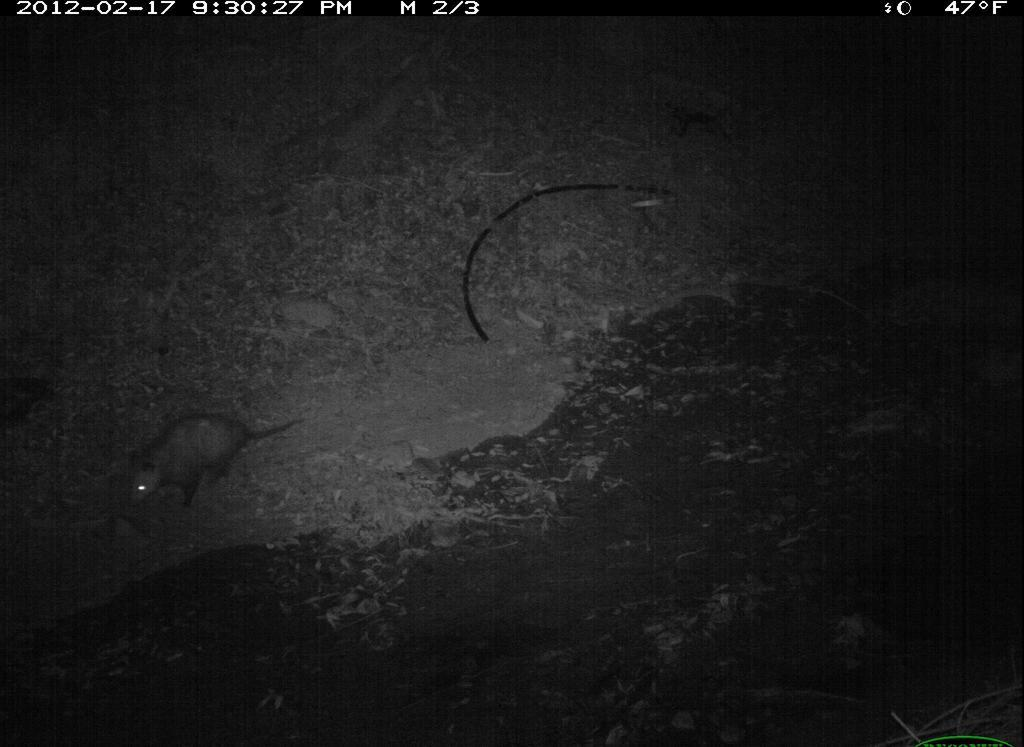opossum: (118, 400, 310, 530)
